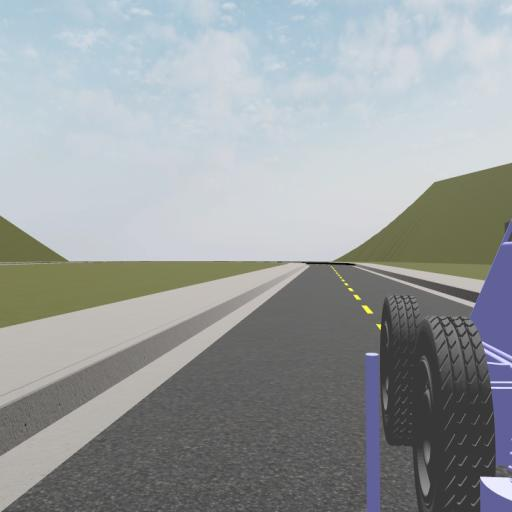ERP-42: (379, 212, 512, 508)
